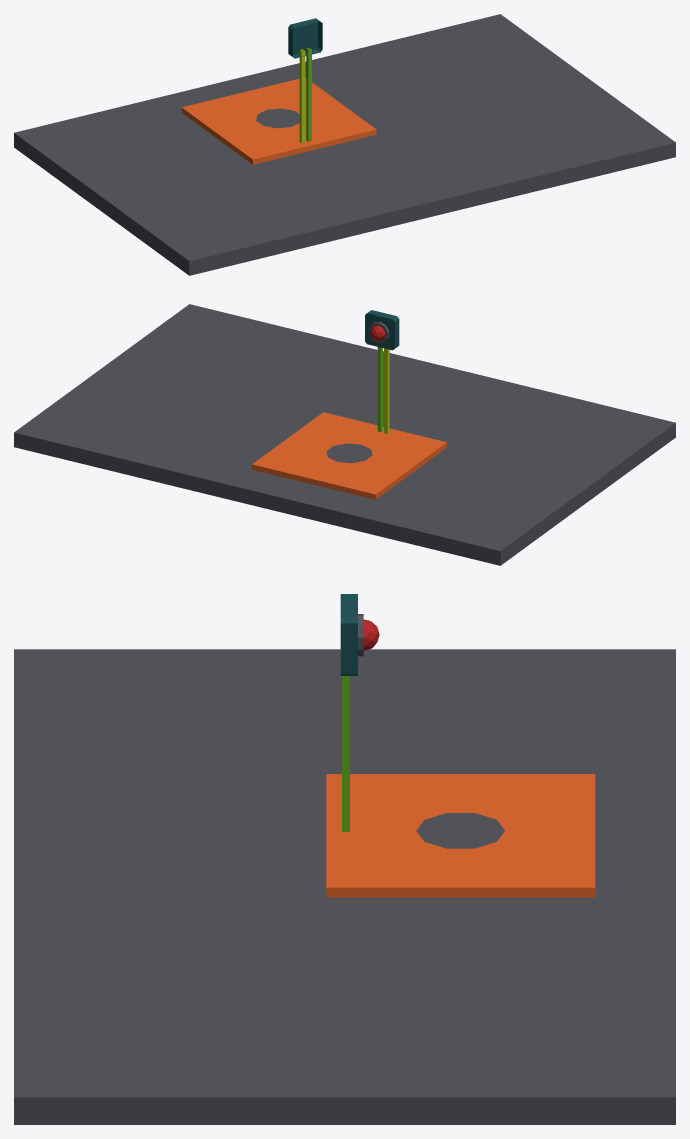
File: CompuertaBase.fbx
The picture shows the model from 3 angles, top to bottom: view 1: azimuth 30°, elevation 25°; view 2: azimuth 150°, elevation 25°; view 3: azimuth 270°, elevation 25°; orthographic projection. The views are drawn at different scales.
Parts seen in each view (by area): view 1: Compuerta.001; view 2: Compuerta.001; view 3: Compuerta.001.
Boxes of the visible parts, left/top/right/bottom form: Compuerta.001: left=14, top=14, right=675, bottom=275; Compuerta.001: left=14, top=304, right=675, bottom=565; Compuerta.001: left=14, top=594, right=675, bottom=1124.
Bounding box in the file's own units: 10460 × 2831 × 6535.
2 materials, 2 textured.
